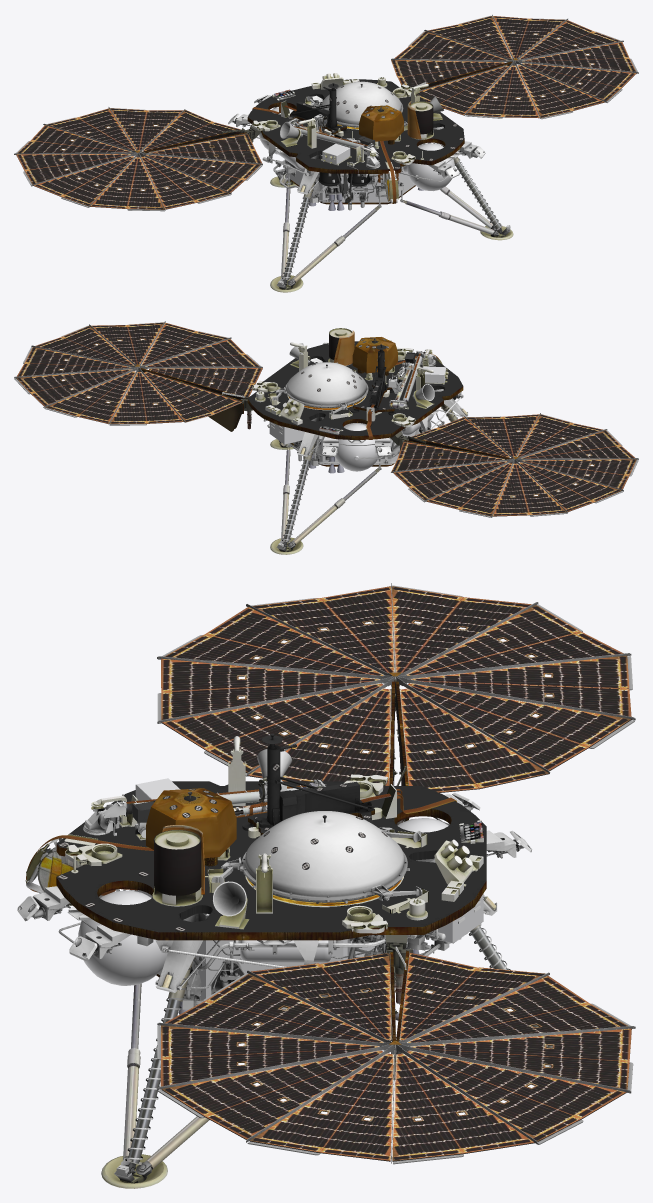
The model's file is insight.glb.
3 views of the same model, one above another, from view 1: azimuth 30°, elevation 25°; view 2: azimuth 150°, elevation 25°; view 3: azimuth 270°, elevation 25° (orthographic). The views are drawn at different scales.
Visible parts, largest first — view 1: arm_02, deck, SEIS, arm_01; view 2: arm_02, deck, SEIS, arm_01; view 3: arm_02, deck, SEIS, arm_01, Cube.026.
Part boxes in pixels (left/top/right/bottom): arm_02: left=14, top=14, right=638, bottom=282; deck: left=228, top=73, right=513, bottom=292; SEIS: left=306, top=81, right=407, bottom=128; arm_01: left=288, top=114, right=380, bottom=201; arm_02: left=14, top=321, right=638, bottom=544; deck: left=252, top=328, right=513, bottom=554; SEIS: left=272, top=338, right=377, bottom=414; arm_01: left=388, top=349, right=436, bottom=407; arm_02: left=25, top=583, right=635, bottom=1168; deck: left=17, top=733, right=551, bottom=1188; SEIS: left=184, top=791, right=422, bottom=903; arm_01: left=83, top=779, right=326, bottom=837; Cube.026: left=385, top=674, right=412, bottom=1079.
Bounding box in the file's own units: 6 × 1.55 × 2.71.
Materials: 12 (10 with a texture image).
